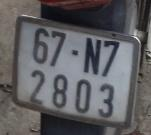0: (73, 76, 94, 118)
2: (27, 67, 46, 105)
3: (97, 79, 119, 121)
6: (29, 26, 49, 64)
7: (49, 29, 69, 71), (101, 37, 121, 78)
8: (51, 70, 70, 112)
N: (82, 34, 102, 78)
